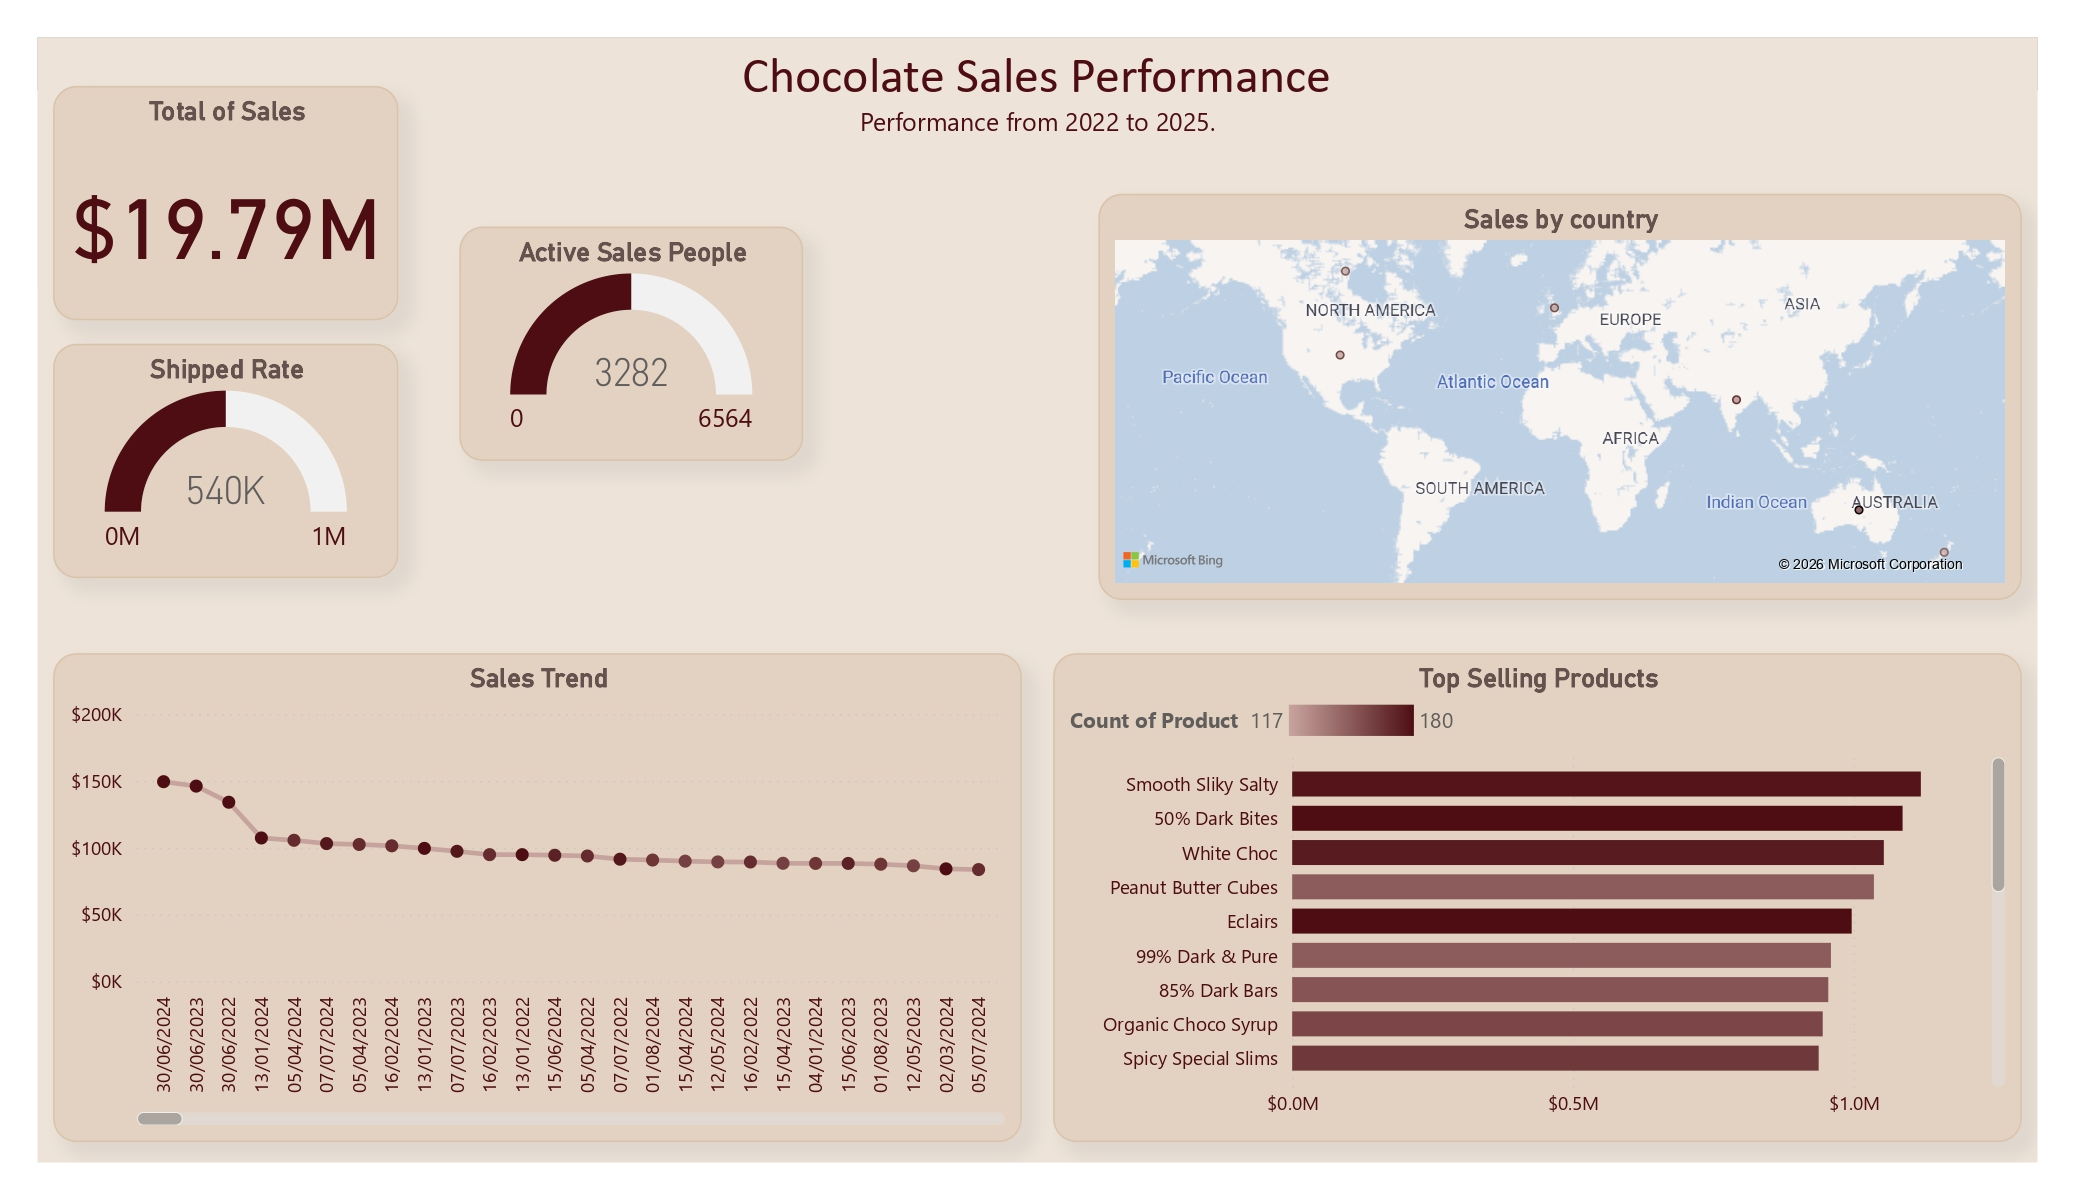

What the dashboard file says about the page in this screenshot:
{"tool":"powerbi","page":{"name":"Page 1","canvas":[1280,720],"ordinal":0},"visuals":[{"type":"card","title":"Total of Sales","fields":{"Values":["Sum(Chocolate Sales (2).Amount)"]},"box":[10,31.4,221.4,150],"z":0},{"type":"lineChart","title":"Sales Trend","fields":{"Category":["Chocolate Sales (2).Date"],"Y":["Sum(Chocolate Sales (2).Amount)"]},"box":[10,394.3,620,312.9],"z":1000},{"type":"clusteredBarChart","title":"Top Selling Products","fields":{"Category":["Chocolate Sales (2).Product"],"Y":["Sum(Chocolate Sales (2).Amount)"]},"box":[650,394.3,620,312.9],"z":2000},{"type":"map","title":"Sales by country","fields":{"Category":["Chocolate Sales (2).Country"]},"box":[678.6,100,591.4,260],"z":3000},{"type":"textbox","box":[418.6,0,441.4,61.4],"z":5000},{"type":"gauge","title":"Shipped Rate","fields":{"Y":["Sum(Chocolate Sales (2).Boxes Shipped)"]},"box":[10,195.7,221.4,150],"z":6000},{"type":"gauge","title":"Active Sales People","fields":{"Y":["CountNonNull(Chocolate Sales (2).Sales Person)"]},"box":[270,121.4,220,150],"z":7000},{"type":"textbox","box":[490,38.3,300.1,45.9],"z":8000}]}

Visuals, with their boxes on the page's 1280x720 design canvas (x1, y1, x2, y2). These are canvas units, not pixel positions in the 2075x1200 screenshot, which may show the page scaled, cropped or inside an application window:
"Total of Sales" card: crop(10, 31, 231, 181)
"Sales Trend" lineChart: crop(10, 394, 630, 707)
"Top Selling Products" clusteredBarChart: crop(650, 394, 1270, 707)
"Sales by country" map: crop(679, 100, 1270, 360)
textbox: crop(419, 0, 860, 61)
"Shipped Rate" gauge: crop(10, 196, 231, 346)
"Active Sales People" gauge: crop(270, 121, 490, 271)
textbox: crop(490, 38, 790, 84)
